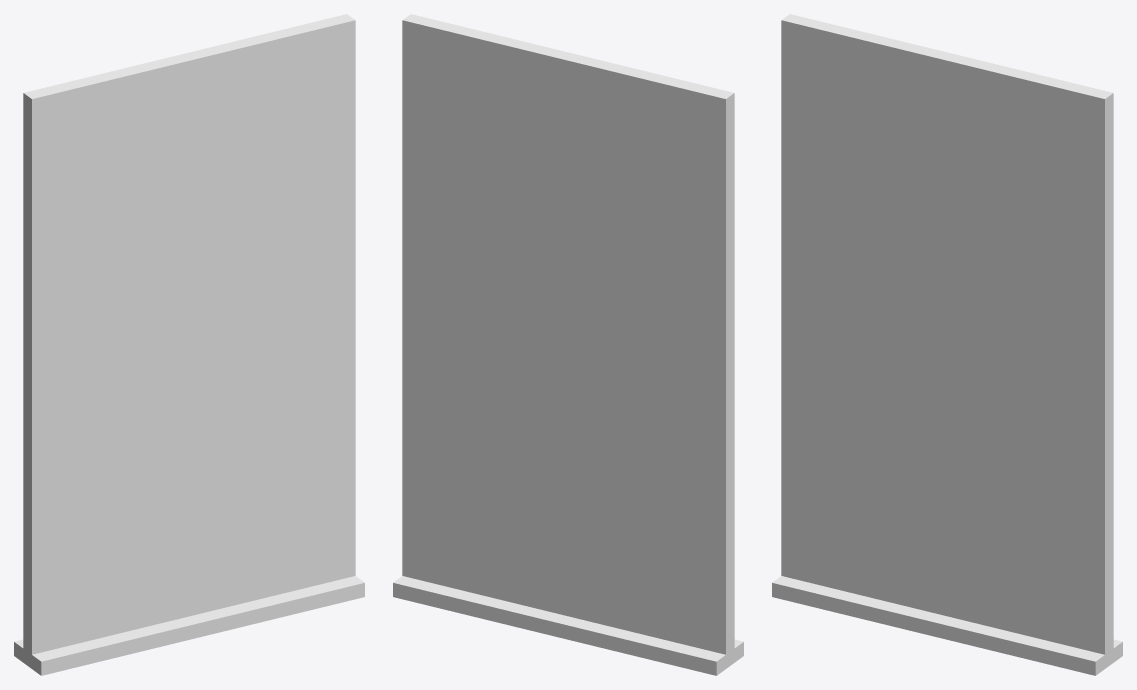
The model's file is 04_wall.FBX.
3 views of the same model, side by side, from view 1: azimuth 30°, elevation 25°; view 2: azimuth 150°, elevation 25°; view 3: azimuth 330°, elevation 25° (orthographic).
Parts seen in each view (by area): view 1: 04_wall; view 2: 04_wall; view 3: 04_wall.
Part boxes in pixels (<box>): 04_wall: <box>14,14,364,675</box>; 04_wall: <box>393,14,743,675</box>; 04_wall: <box>772,14,1122,675</box>.
Bounding box in the file's own units: 256 × 432 × 37.56.
